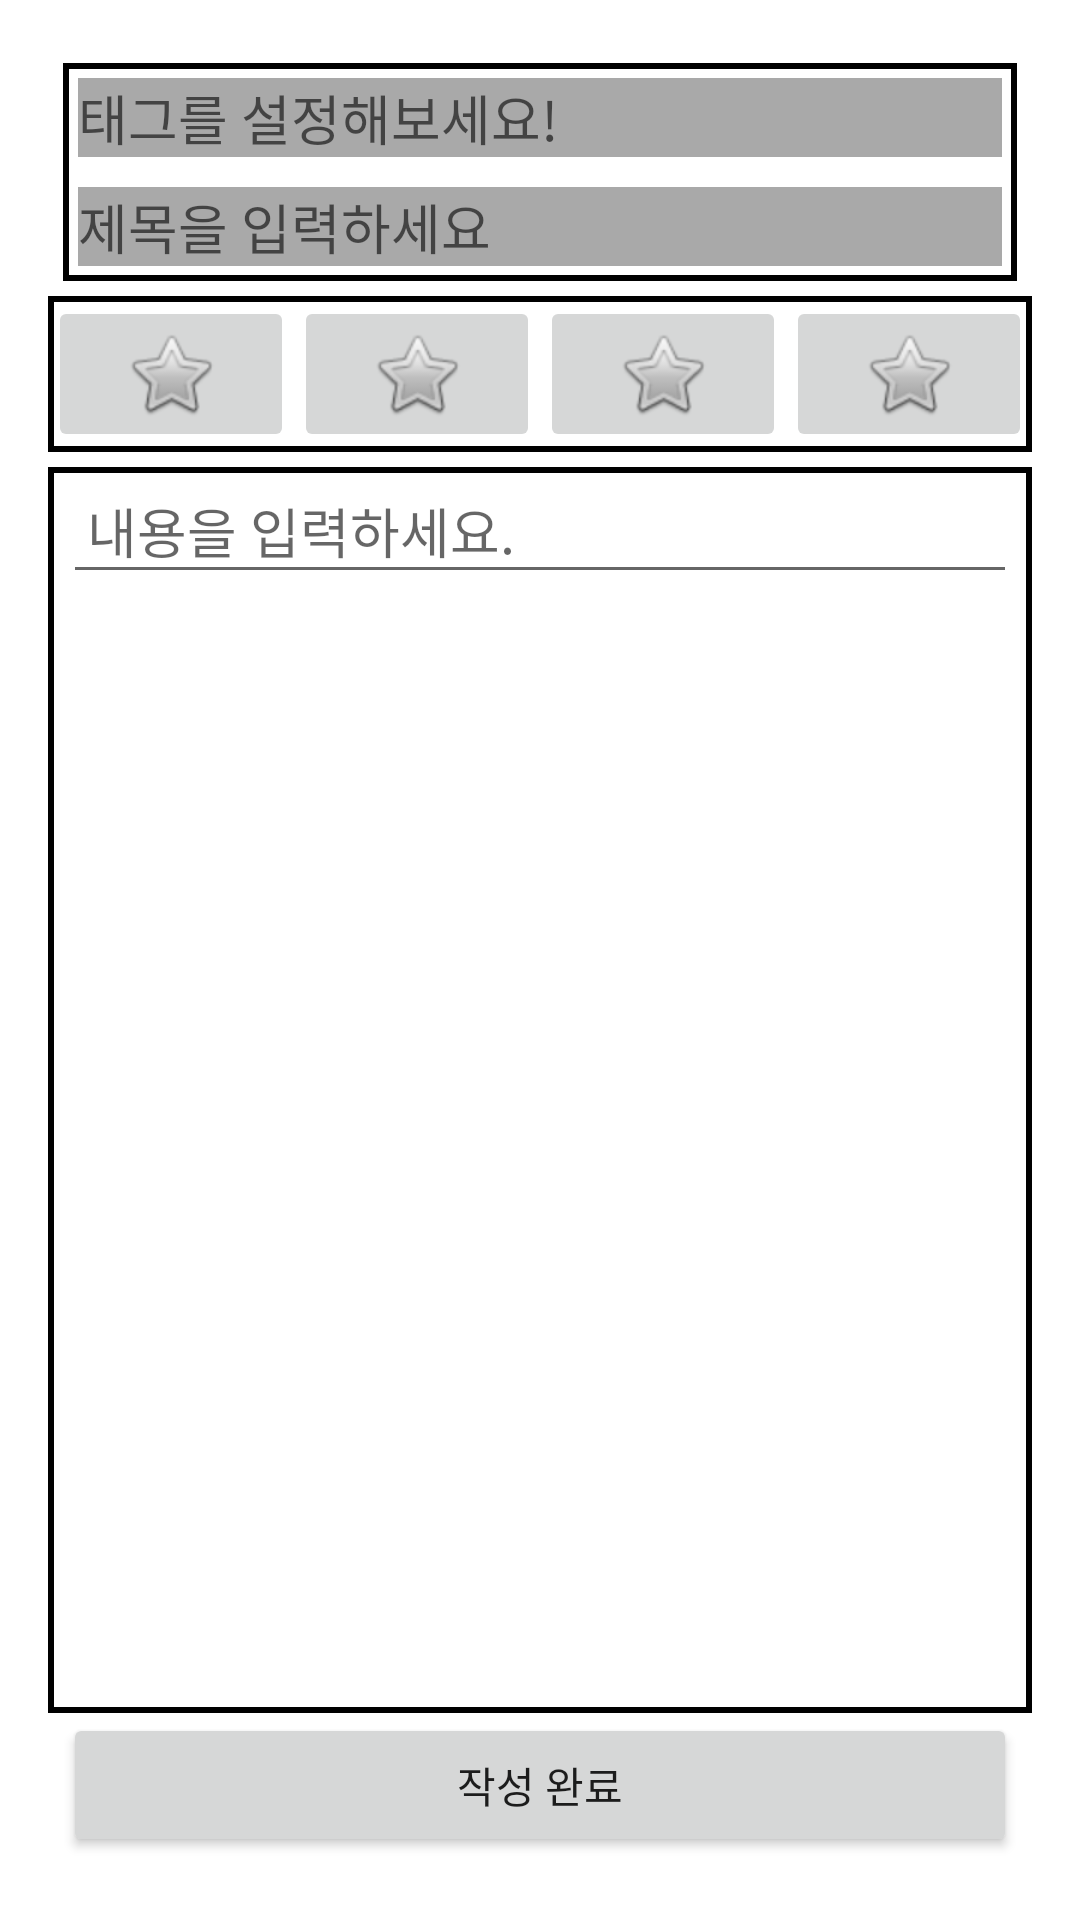

Locate icon controls on the screen. Image size 1080×1920, boxes as Rect(x1, y1, x2, y2).
star: Rect(60, 314, 282, 434), Rect(306, 314, 528, 434), Rect(552, 314, 774, 434), Rect(798, 314, 1020, 434)
